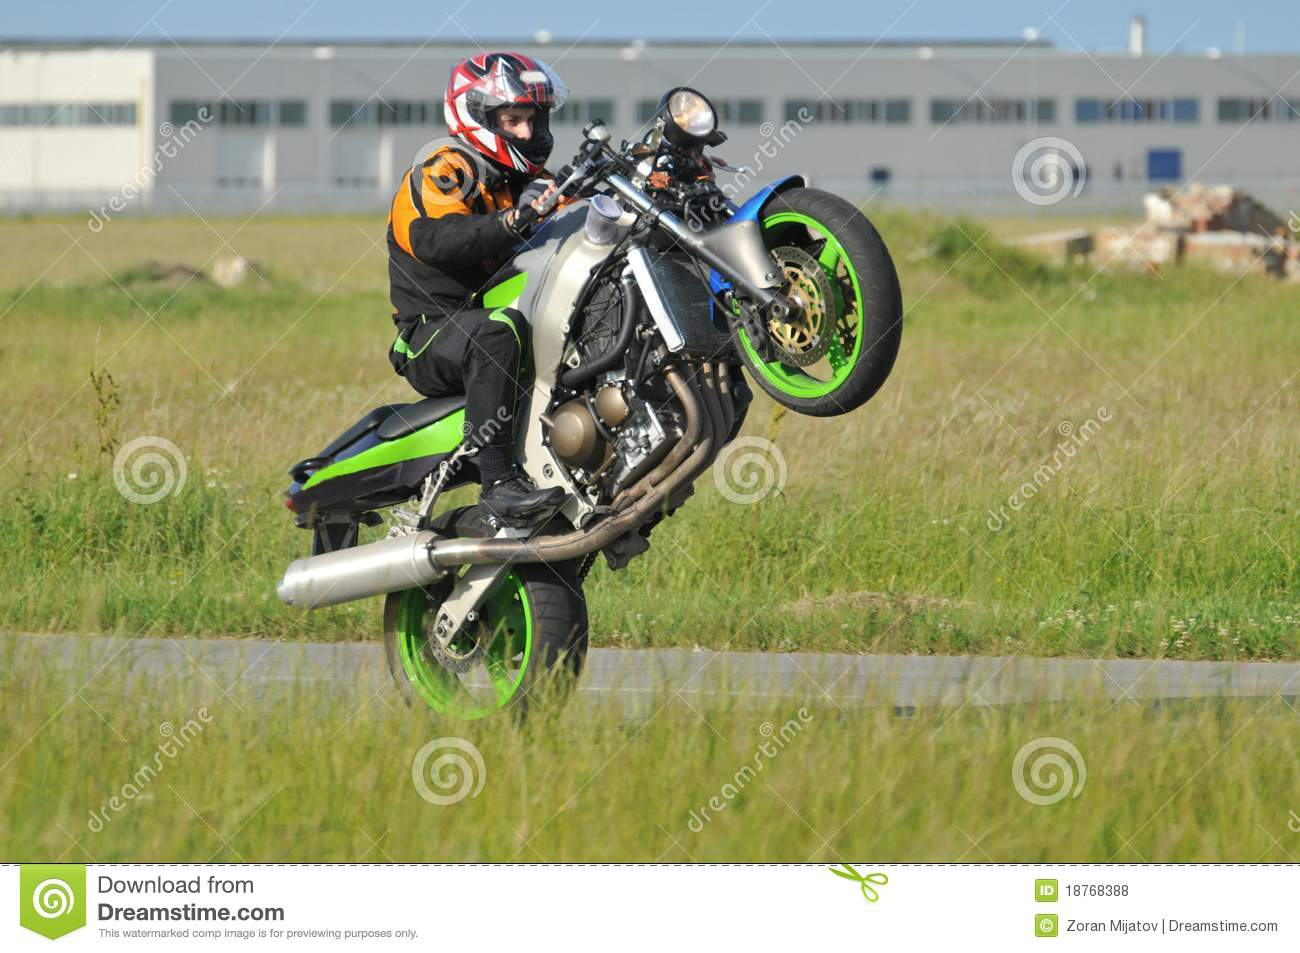helmet: (443, 37, 557, 180)
